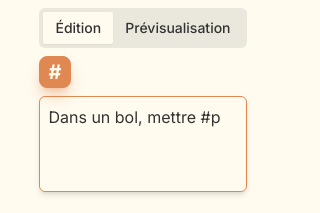
Test case: Add a reference › Should complete the reference when a food is clicked
The image size is (320, 213).
Click the field at (143, 144), box [40,96,247,192]
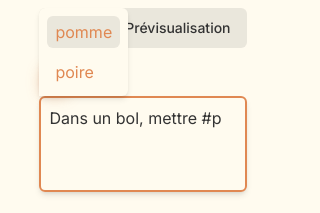
Type keys "a"
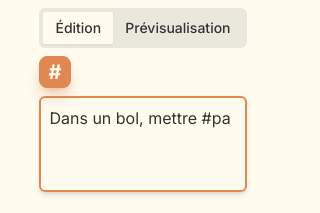
Press Backspace
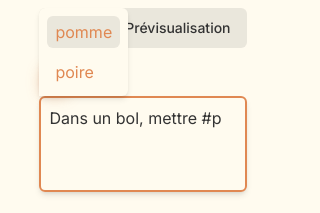
Click the button "pomme" at (84, 32), box [48,16,120,48]
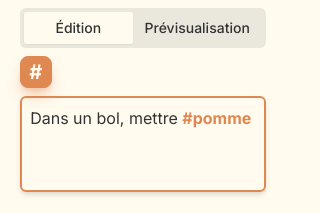
Expected: the field reads "Dans un bol, mettre #pomme", [20,96,266,192]
